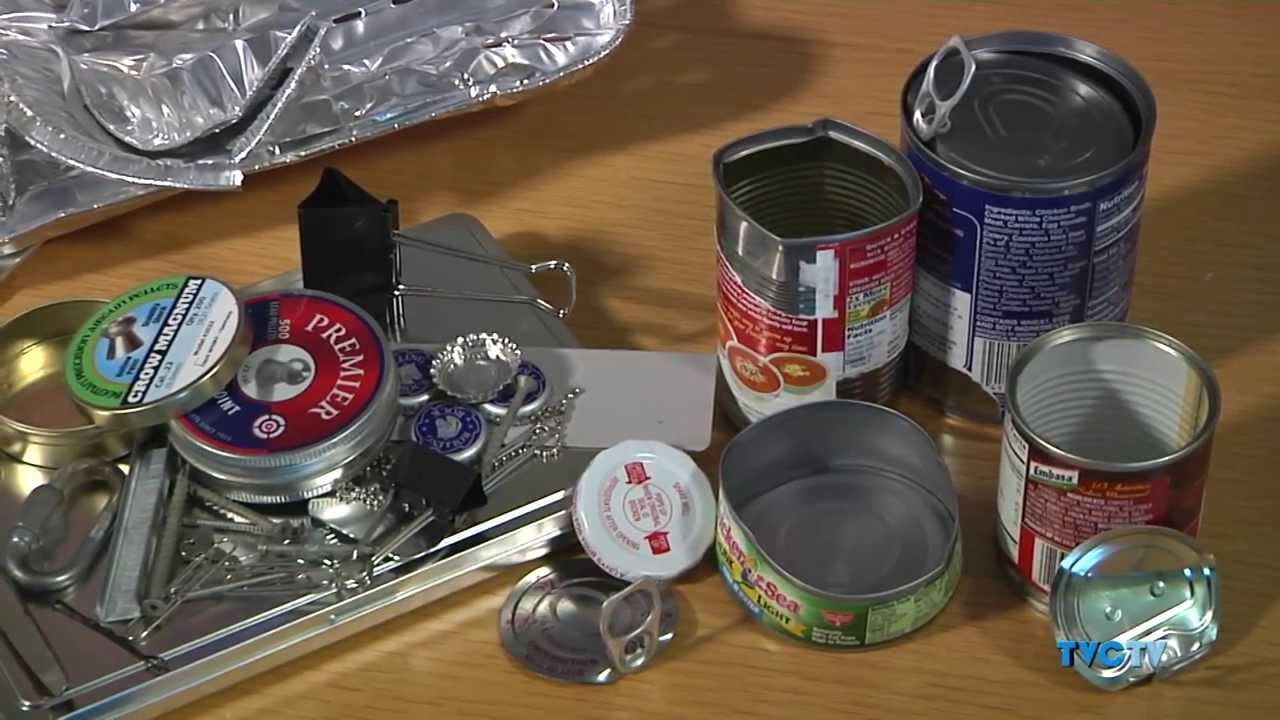metal: (885, 17, 1187, 434), (670, 98, 932, 439), (693, 384, 981, 661), (988, 312, 1245, 620), (152, 283, 434, 522), (275, 158, 591, 333), (1041, 517, 1238, 692), (59, 263, 260, 429), (490, 540, 697, 695), (558, 417, 740, 587), (1, 292, 140, 467), (7, 449, 138, 607), (420, 323, 548, 407), (402, 395, 510, 466), (471, 358, 565, 422)
